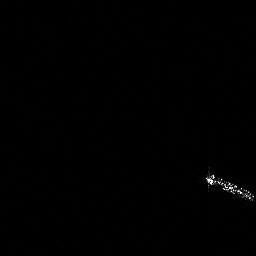ship: (202, 166, 256, 205)
